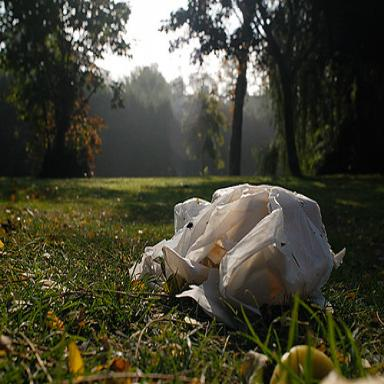plasticbag: (127, 181, 344, 331)
